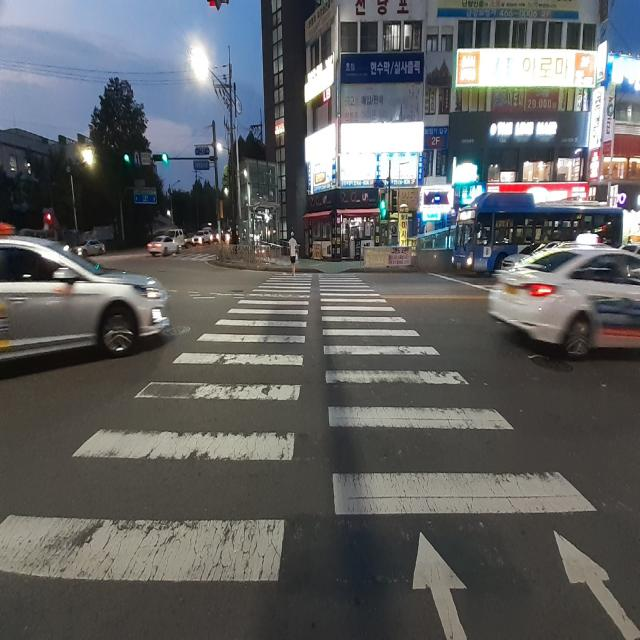초록불: (380, 193, 386, 209)
횡단보도: (0, 272, 640, 640)
